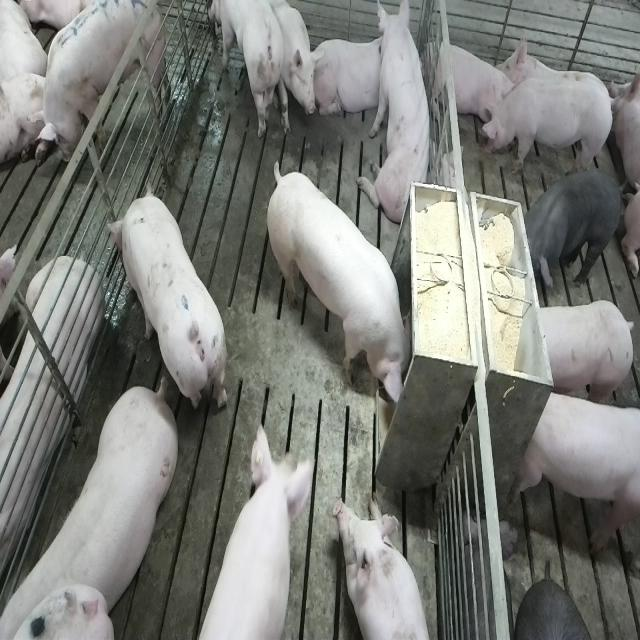Feeding: (271, 163, 420, 410)
Sitting: (363, 4, 436, 231), (256, 2, 317, 144)
Standing: (6, 375, 183, 634), (192, 421, 321, 640), (104, 190, 226, 420), (516, 384, 638, 572), (29, 0, 165, 159), (206, 1, 310, 142), (481, 79, 618, 182), (519, 165, 623, 289), (529, 296, 633, 404)
Sternal_lying: (0, 250, 100, 580), (336, 498, 434, 640), (430, 36, 512, 132), (312, 35, 390, 121)
